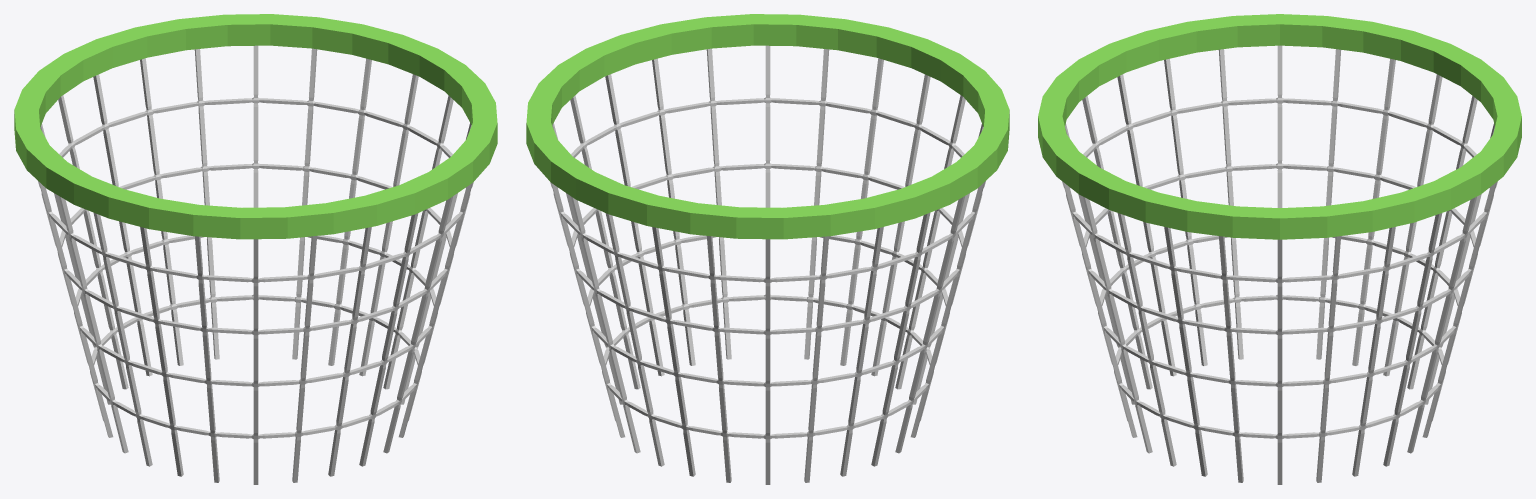
The model's file is rim.fbx.
3 views of the same model, side by side, from view 1: azimuth 30°, elevation 25°; view 2: azimuth 150°, elevation 25°; view 3: azimuth 270°, elevation 25° (orthographic).
Visible parts, largest first — view 1: Cylinder; view 2: Cylinder; view 3: Cylinder.
Boxes of the visible parts, left/top/right/bottom form: Cylinder: left=14, top=14, right=497, bottom=484; Cylinder: left=526, top=14, right=1009, bottom=484; Cylinder: left=1038, top=14, right=1521, bottom=484.
Size of the model in its own units: 579 by 402 by 579.
